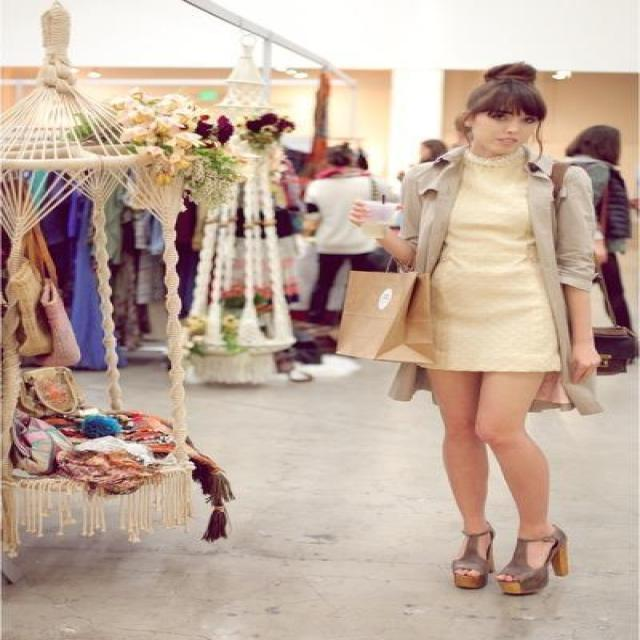bag: (328, 269, 418, 358)
dress: (403, 148, 560, 370)
jacket: (371, 162, 605, 415)
shoe: (453, 534, 566, 596)
